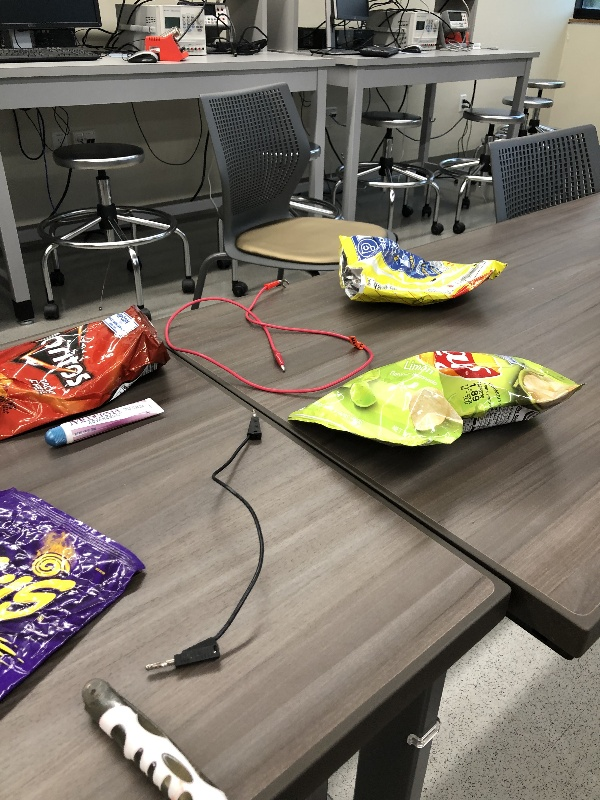bag: (281, 345, 588, 454), (1, 490, 154, 705), (1, 296, 169, 451), (324, 228, 511, 315)
